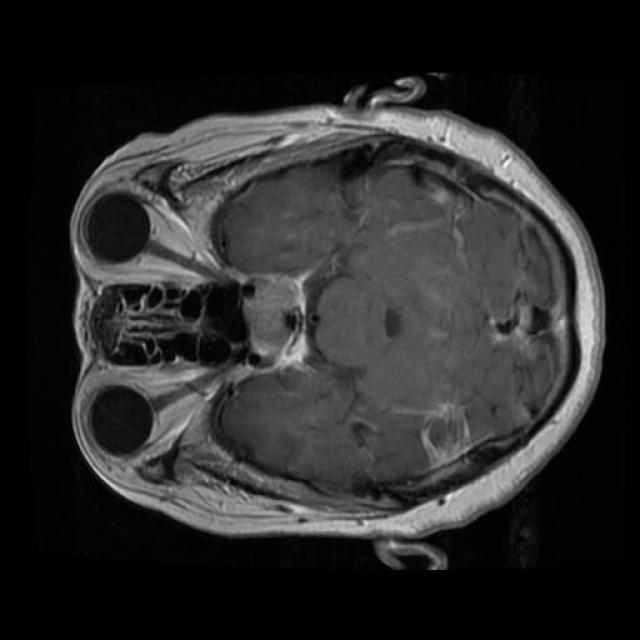Pituitary: (242, 274, 307, 364)
